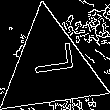L_W: (25, 49, 76, 87)
